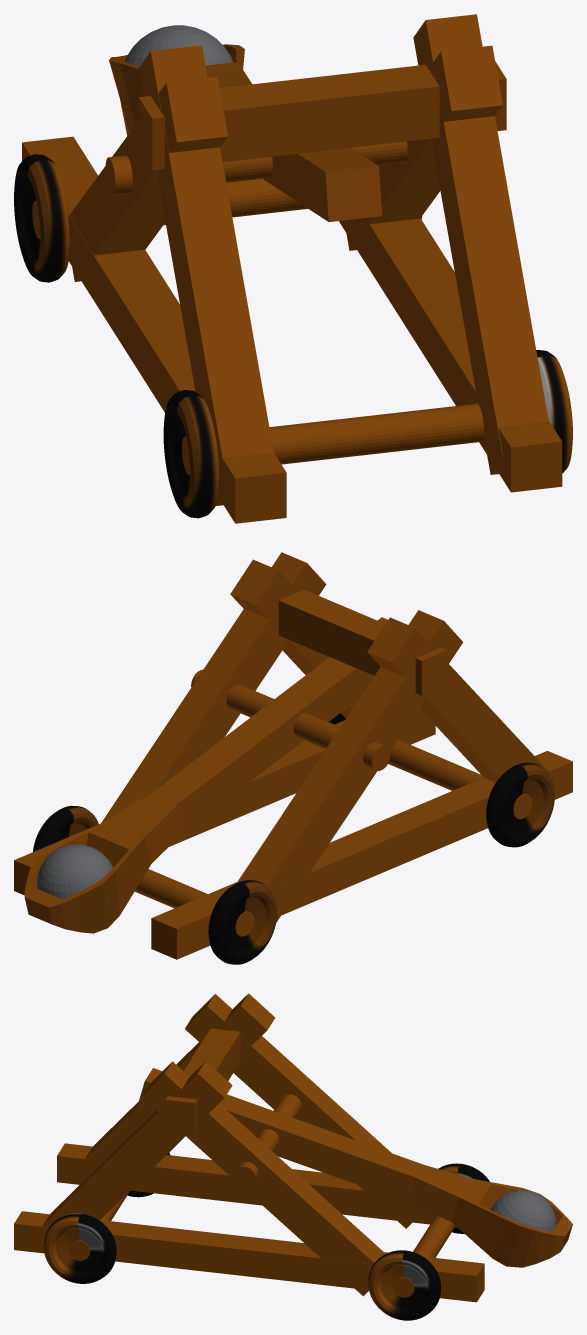
The model's file is Катапульта0.fbx.
The picture shows the model from 3 angles, top to bottom: view 1: azimuth 30°, elevation 25°; view 2: azimuth 150°, elevation 25°; view 3: azimuth 270°, elevation 25°; orthographic projection. The views are drawn at different scales.
Parts seen in each view (by area): view 1: Куб.003, Куб.008, Куб.006, Куб, Куб.001, Куб.005, Куб.007, Куб.002, Цилиндр, Тор.003, Тор, Цилиндр.002 (+3 smaller); view 2: Куб.007, Куб, Куб.005, Куб.002, Куб.008, Куб.006, Куб.001, Тор, Тор.003, Куб.003, Сфера, Цилиндр.002 (+3 smaller); view 3: Куб.007, Куб.001, Куб.002, Куб.005, Куб, Куб.003, Тор.001, Тор.002, Куб.008, Куб.006, Сфера, Цилиндр.001 (+3 smaller).
Part boxes in pixels (x1,y1,x2,y2): Куб.003: (413,14,548,474); Куб.008: (138,45,273,505); Куб.006: (138,61,506,170); Куб: (22,136,286,523); Куб.001: (339,218,562,492); Куб.005: (69,76,227,281); Куб.007: (109,44,382,221); Куб.002: (344,45,502,250); Цилиндр: (182,403,483,474); Тор.003: (14,154,69,282); Тор: (163,390,218,518); Цилиндр.002: (105,141,407,195); Куб.007: (24,617,387,933); Куб: (151,751,572,959); Куб.005: (238,610,463,922); Куб.002: (101,552,326,822); Куб.008: (367,617,548,782); Куб.006: (278,589,447,695); Куб.001: (14,708,435,895); Тор: (486,762,554,847); Тор.003: (208,880,276,964); Куб.003: (230,559,421,743); Сфера: (36,844,112,899); Цилиндр.002: (191,669,390,770); Куб.007: (137,1068,572,1267); Куб.001: (14,1211,484,1302); Куб.002: (142,1061,383,1296); Куб.005: (185,994,424,1228); Куб: (57,1143,457,1227); Куб.003: (42,1061,232,1227); Тор.001: (43,1213,116,1283); Тор.002: (368,1250,441,1320); Куб.008: (73,993,275,1180); Куб.006: (165,1028,240,1132); Сфера: (491,1190,556,1243); Цилиндр.001: (393,1215,455,1297).
Size of the model in its own units: 106 by 78.91 by 183.
